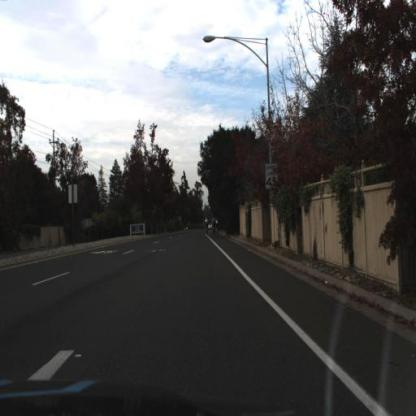car: (209, 225, 214, 231)
pedestrian: (207, 218, 210, 236), (217, 219, 220, 236), (213, 219, 216, 235)
